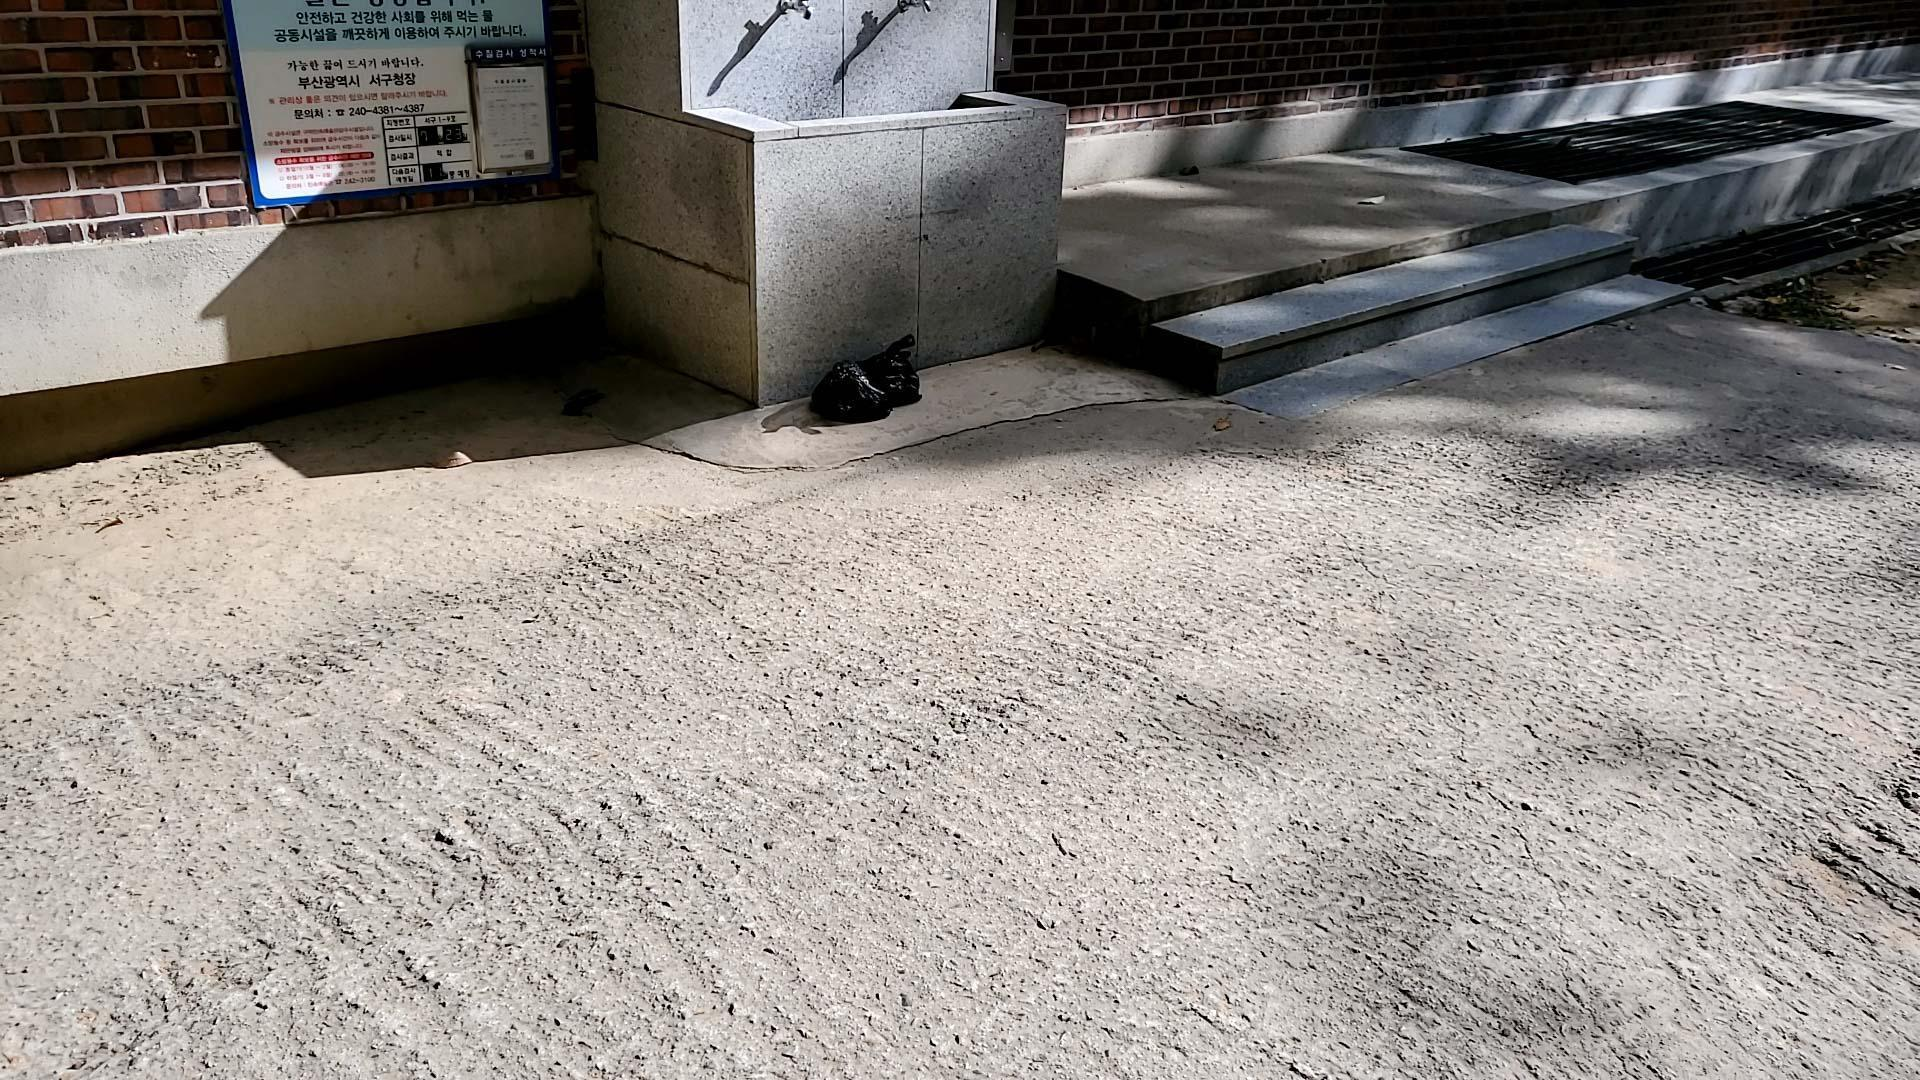black_bag: (802, 360, 893, 425), (858, 328, 926, 407)
